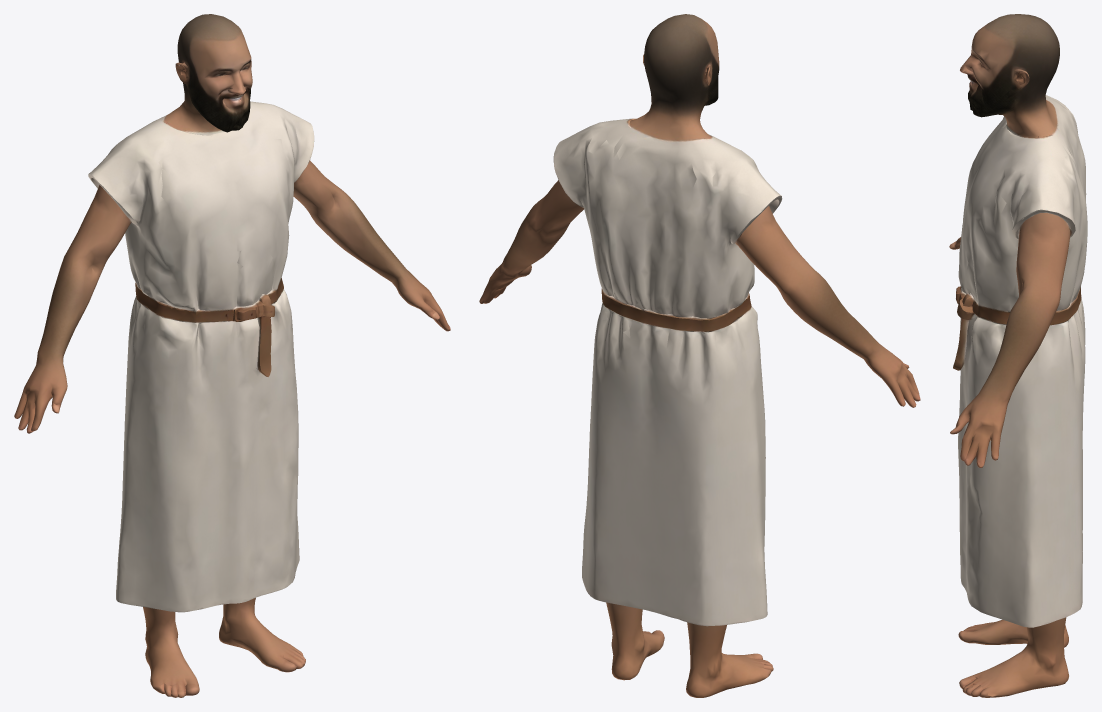
File: nazir_1.glb
3 views of the same model, side by side, from view 1: azimuth 30°, elevation 25°; view 2: azimuth 150°, elevation 25°; view 3: azimuth 270°, elevation 25° (orthographic).
Parts seen in each view (by area): view 1: Mesh; view 2: Mesh; view 3: Mesh.
Part boxes in pixels (left/top/right/bottom): Mesh: left=14, top=14, right=450, bottom=697; Mesh: left=479, top=14, right=920, bottom=697; Mesh: left=949, top=14, right=1087, bottom=697.
Bounding box in the file's own units: 1.31 × 1.89 × 0.3663.
1 material, 1 textured.
